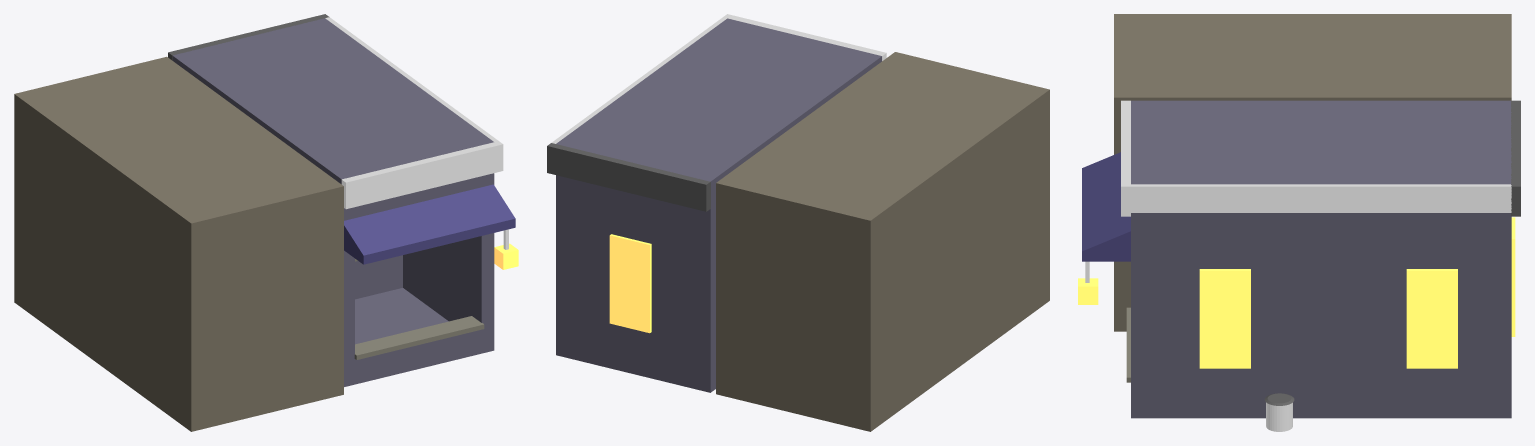
3 views of the same model, side by side, from view 1: azimuth 30°, elevation 25°; view 2: azimuth 150°, elevation 25°; view 3: azimuth 270°, elevation 25° (orthographic). The views are drawn at different scales.
Visible parts, largest first — view 1: Cube.028, Cube.001, Cube.002, Cube.011, Cube, Cube.010, Cube.012, Cube.007; view 2: Cube.028, Cube.001, Cube.012, Cube.013, Cube.010, Cube.011; view 3: Cube.001, Cube.028, Cube.010, Cube.008, Cube.009, Cube.002, Cube.011, Cube.012, Cylinder, Cube.013, Cube.007.
Boxes of the visible parts, <box> form: Cube.028: <box>14,56,343,431</box>; Cube.001: <box>172,18,494,386</box>; Cube.002: <box>344,184,515,264</box>; Cube.011: <box>341,141,503,209</box>; Cube: <box>354,316,484,359</box>; Cube.010: <box>325,17,498,141</box>; Cube.012: <box>168,14,329,60</box>; Cube.007: <box>494,243,518,269</box>; Cube.028: <box>716,52,1049,431</box>; Cube.001: <box>556,18,881,392</box>; Cube.012: <box>547,143,710,211</box>; Cube.013: <box>609,234,651,333</box>; Cube.010: <box>551,17,726,143</box>; Cube.011: <box>723,14,886,60</box>; Cube.001: <box>1131,100,1511,418</box>; Cube.028: <box>1114,14,1511,331</box>; Cube.010: <box>1131,184,1511,212</box>; Cube.008: <box>1199,269,1250,368</box>; Cube.009: <box>1406,269,1457,368</box>; Cube.002: <box>1082,152,1130,261</box>; Cube.011: <box>1121,100,1130,216</box>; Cube.012: <box>1511,100,1520,216</box>; Cylinder: <box>1264,393,1294,431</box>; Cube.013: <box>1511,217,1515,336</box>; Cube.007: <box>1078,278,1098,304</box>.
Size of the model in its own units: 13.71 by 8.1 by 13.88.
